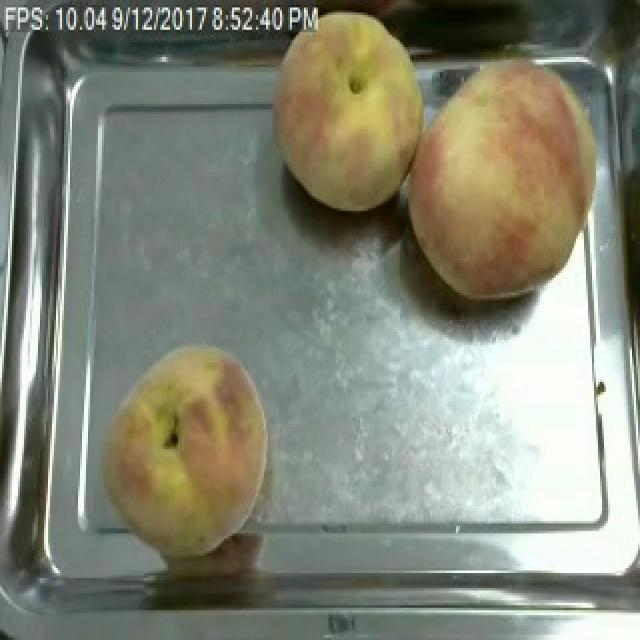Fruit: (390, 42, 620, 313), (80, 335, 278, 565), (262, 5, 440, 221)
